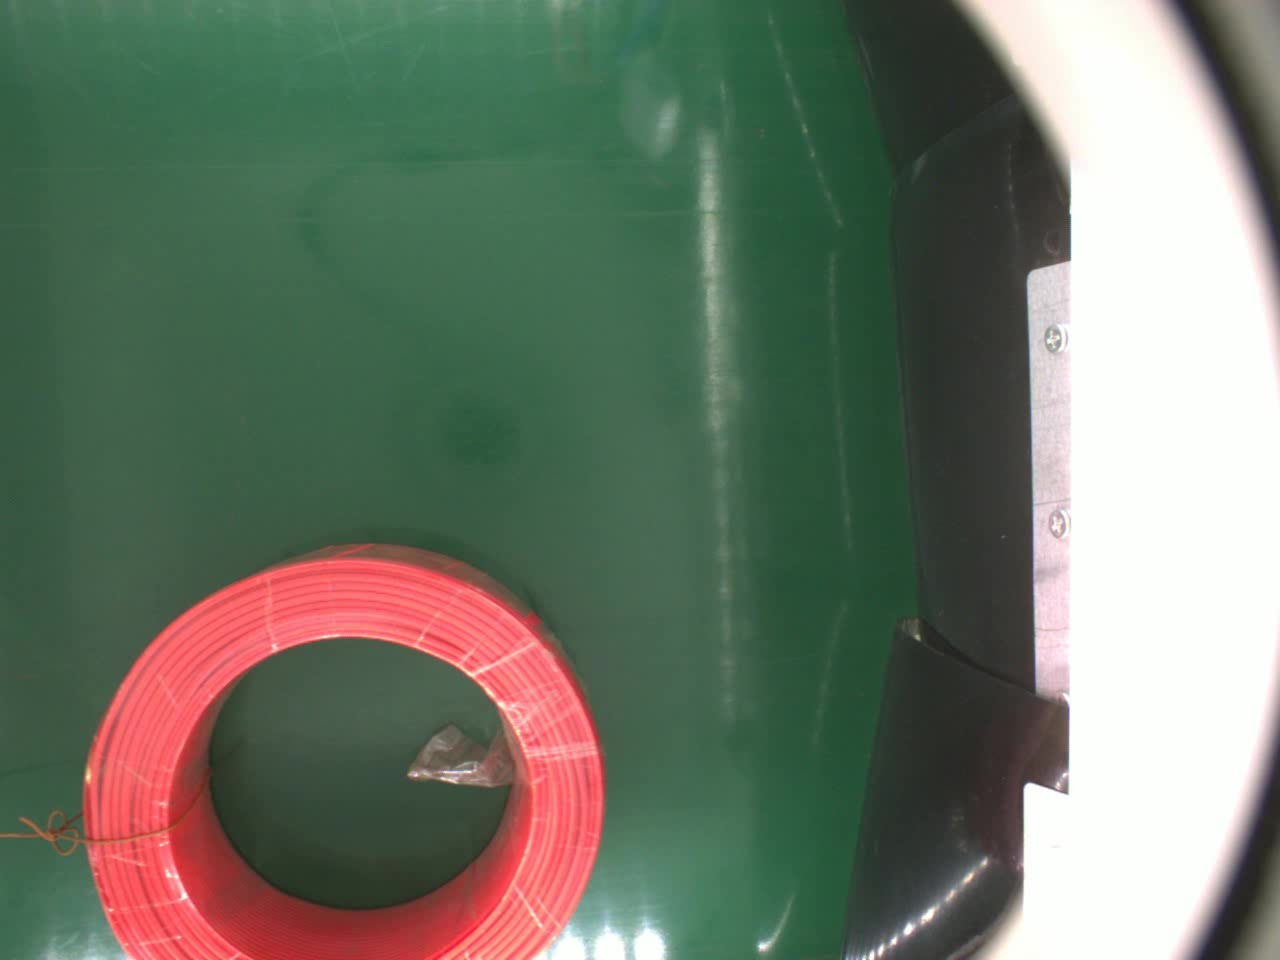red: (82, 541, 613, 960)
